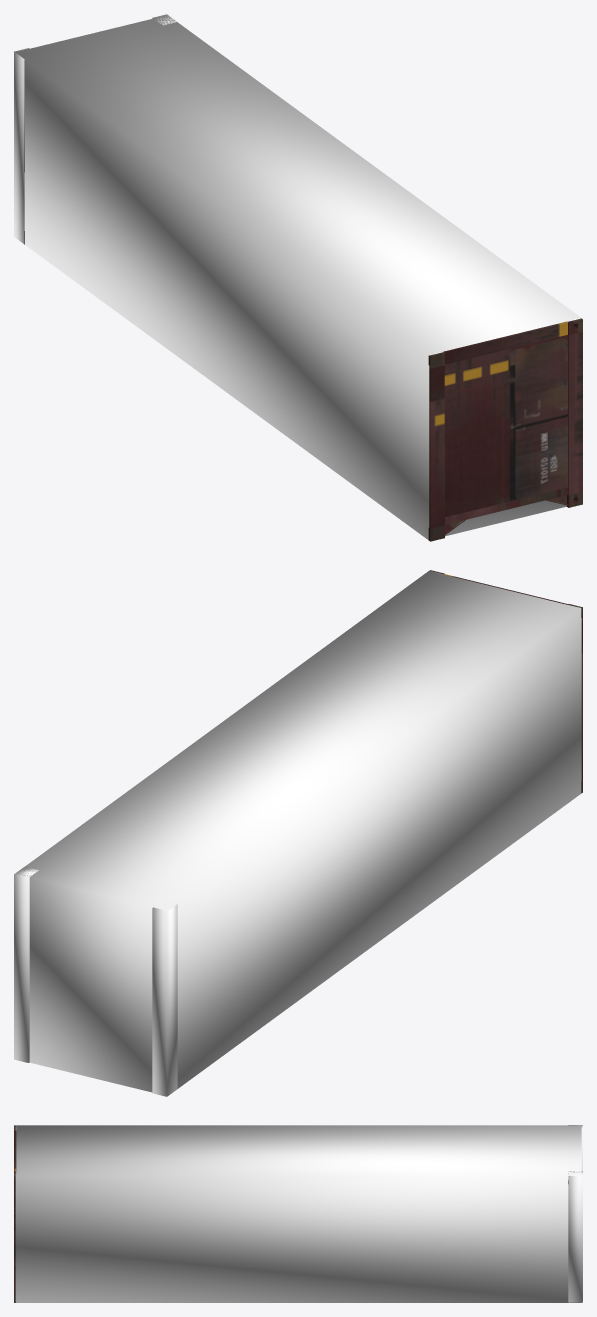
The model's file is defaultcontainerred.glb.
3 views of the same model, one above another, from view 1: azimuth 30°, elevation 25°; view 2: azimuth 150°, elevation 25°; view 3: azimuth 270°, elevation 25° (orthographic). The views are drawn at different scales.
Parts seen in each view (by area): view 1: DefaultContainerRed; view 2: DefaultContainerRed; view 3: DefaultContainerRed.
Part boxes in pixels (<box>): DefaultContainerRed: <box>14,14,582,541</box>; DefaultContainerRed: <box>14,570,582,1096</box>; DefaultContainerRed: <box>14,1125,582,1302</box>.
Size of the model in its own units: 2.6 by 3.02 by 12.27.
Materials: 2 (1 with a texture image).
